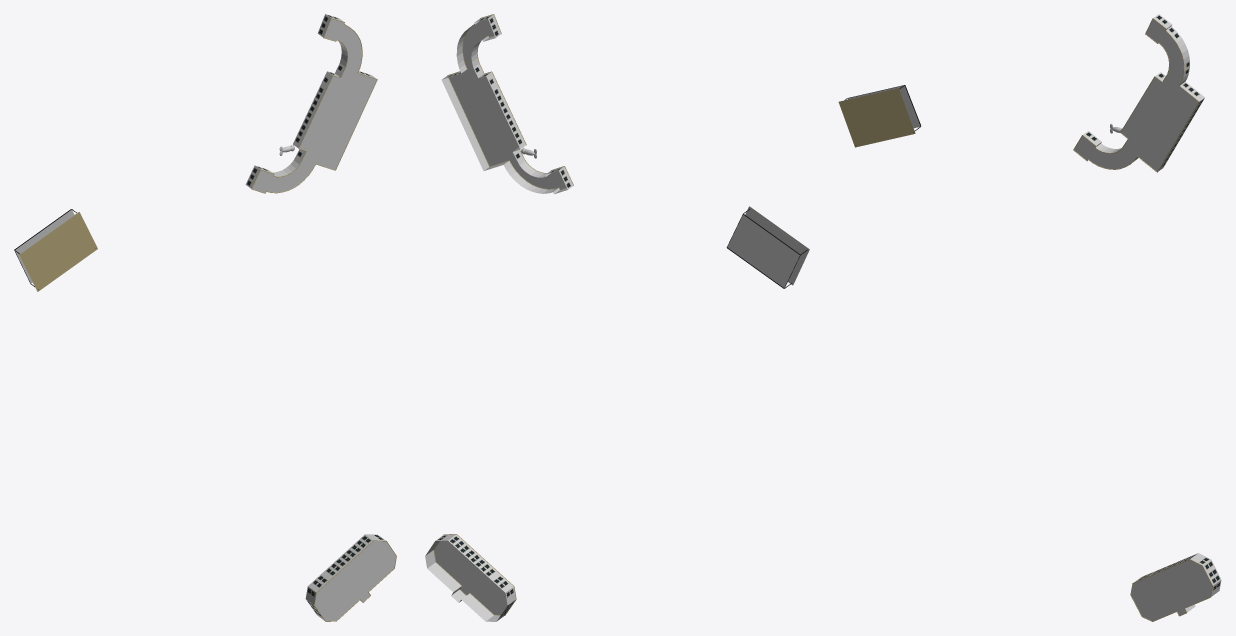
The model's file is ParkLandmarks.obj.
3 renders of one model, left to right at view 1: azimuth 30°, elevation 25°; view 2: azimuth 150°, elevation 25°; view 3: azimuth 330°, elevation 25°, orthographic.
Visible parts, largest first — view 1: ParkLandmarks; view 2: ParkLandmarks; view 3: ParkLandmarks.
Part boxes in pixels (box(x1,y1,x2,y2)): ParkLandmarks: box(14, 14, 396, 621); ParkLandmarks: box(425, 14, 809, 621); ParkLandmarks: box(838, 14, 1221, 621).
Bounding box in the file's own units: 17499 × 26750 × 714.
